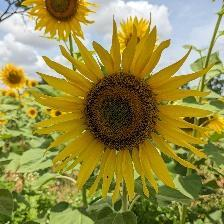sunflower: (32, 14, 214, 206)
